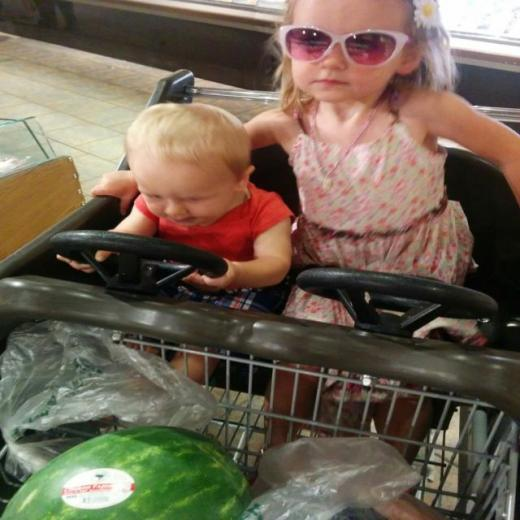Cherry: (0, 424, 250, 519)
